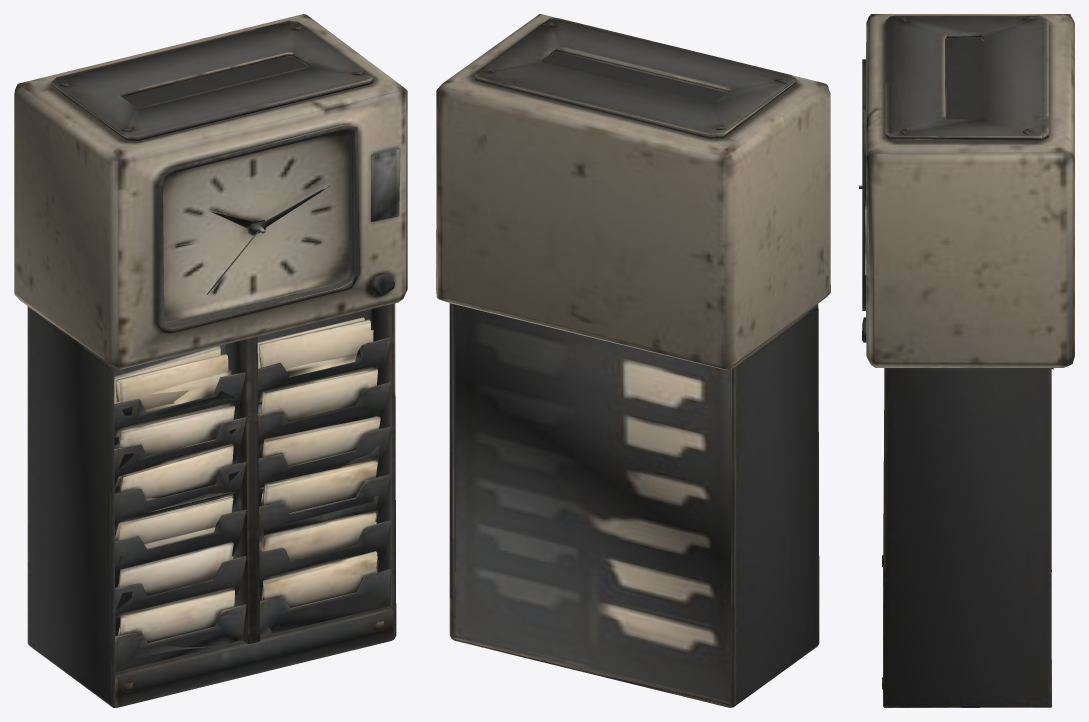
File: p7-punch-clock-t25.glb
3 renders of one model, left to right at view 1: azimuth 30°, elevation 25°; view 2: azimuth 150°, elevation 25°; view 3: azimuth 270°, elevation 25°, orthographic.
Parts seen in each view (by area): view 1: p7-punch-clock-t25; view 2: p7-punch-clock-t25; view 3: p7-punch-clock-t25.
Boxes of the visible parts, left/top/right/bottom form: p7-punch-clock-t25: left=14, top=14, right=407, bottom=707; p7-punch-clock-t25: left=436, top=14, right=830, bottom=707; p7-punch-clock-t25: left=859, top=14, right=1074, bottom=707.
Bounding box in the file's own units: 0.386 × 0.7 × 0.242.
1 material, 1 textured.
